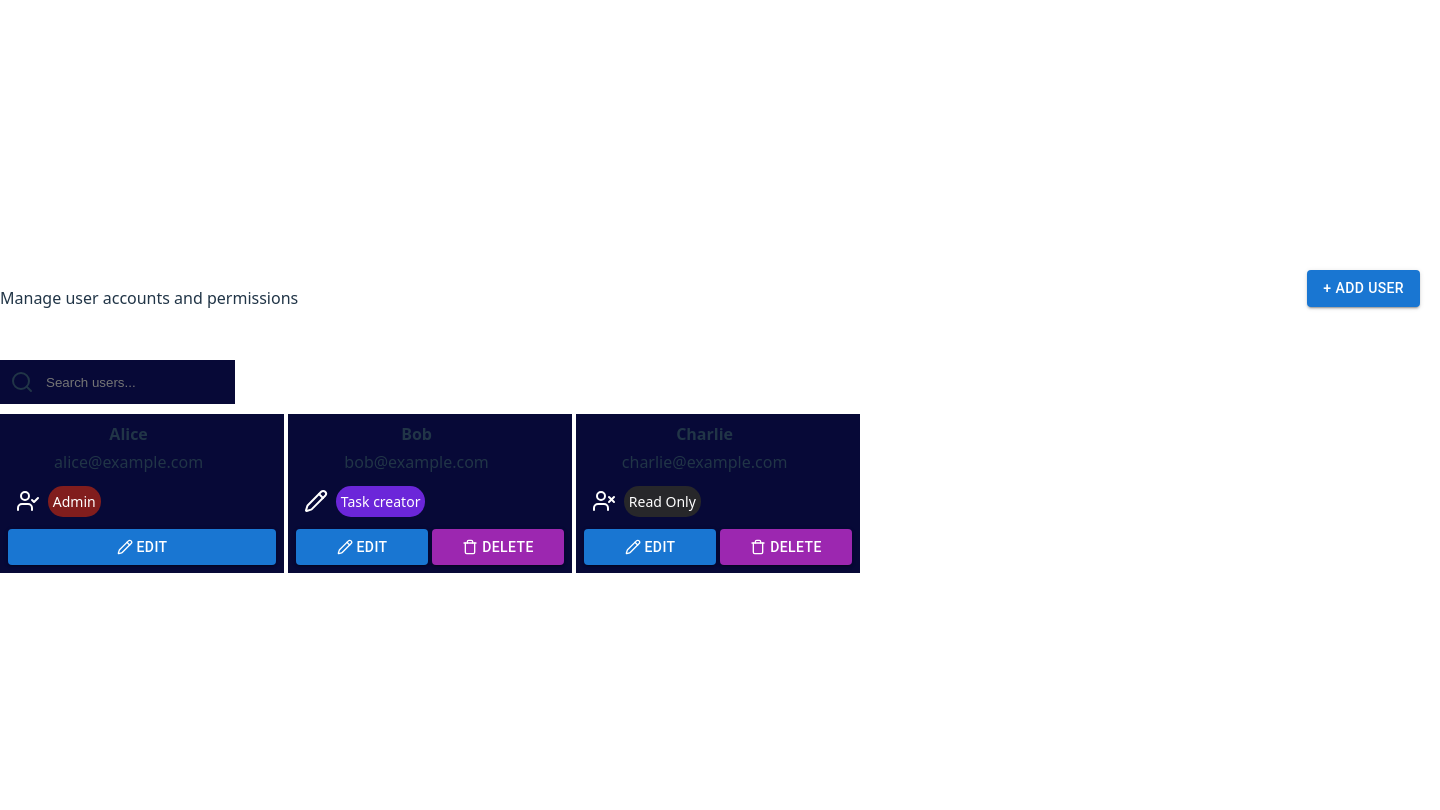
Test: UserManagement Component › opens Delete confirmation modal when Delete clicked
What coordinates should you click on to do the following:
click the button "Delete" below "Task creator"
I would click on:
 (498, 547)
Its box is top-left (432, 529), bottom-right (564, 565).
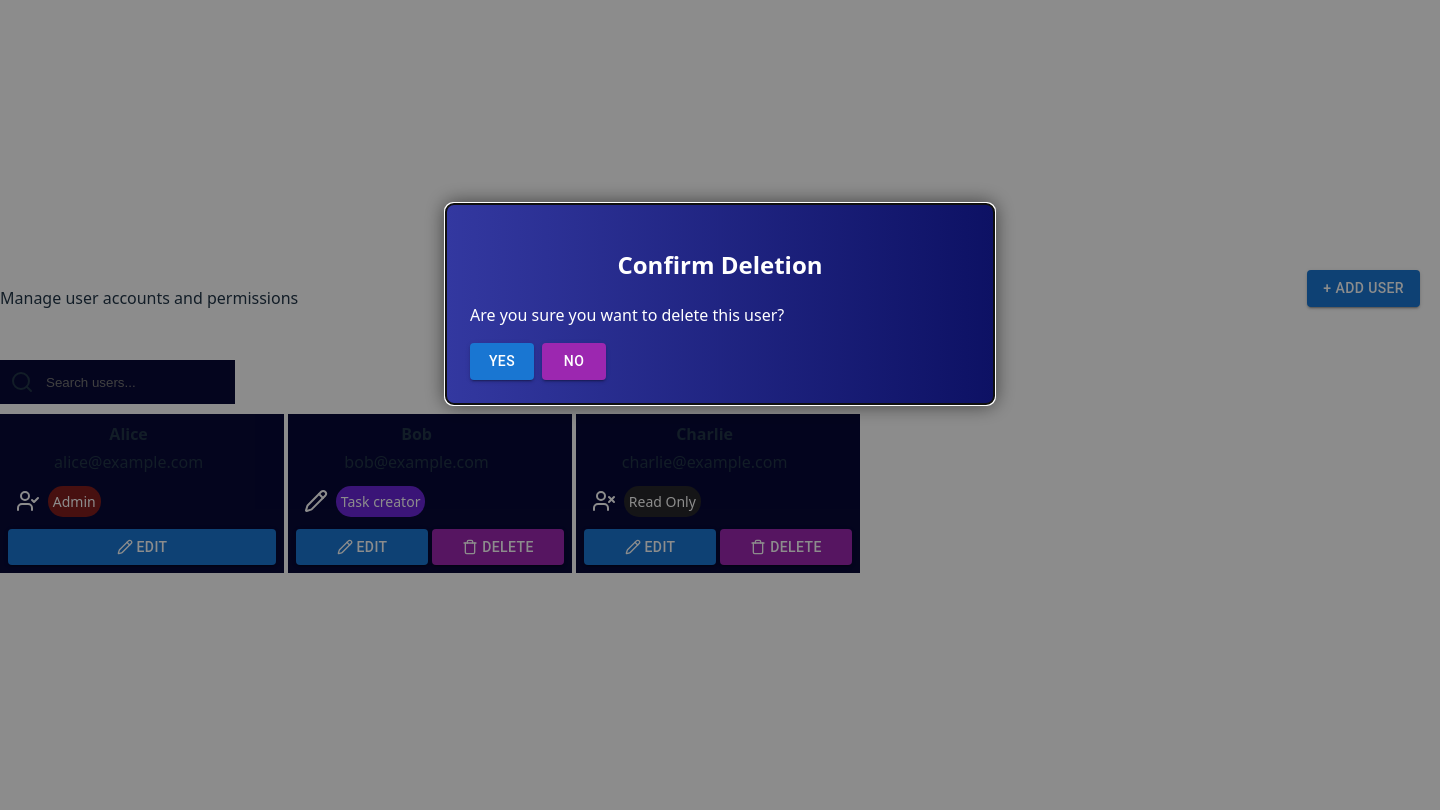
expect the heading "Confirm Deletion" is shown: met, box top-left (618, 248), bottom-right (822, 281)
